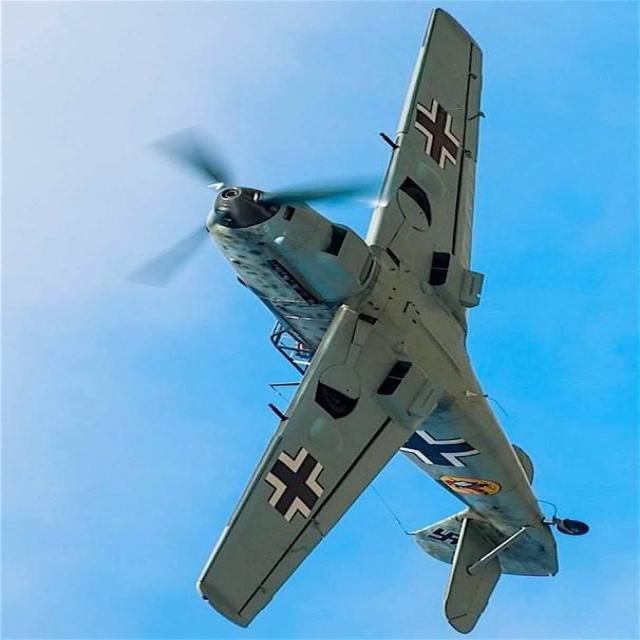iha: (123, 4, 588, 635)
